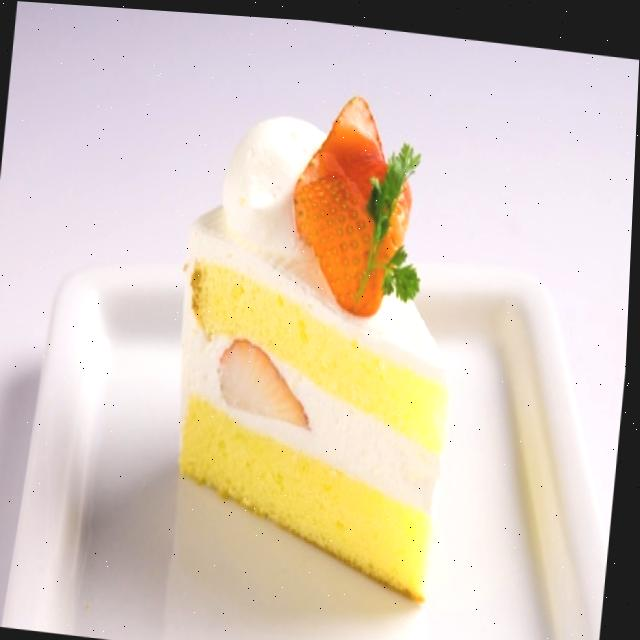蛋糕甜品: (121, 53, 506, 613)
